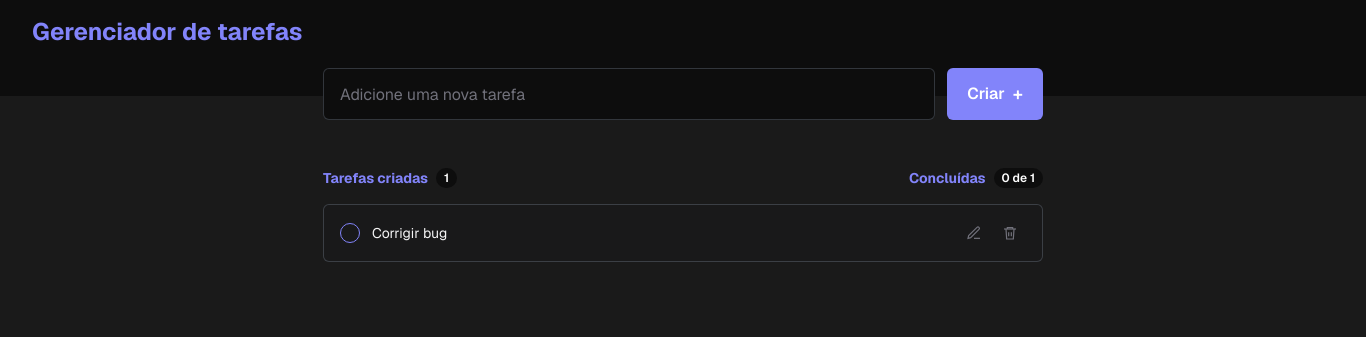
TasksHome › Não deve concluir a tarefa quando o service retornar erro
The width and height of the screenshot is (1366, 337).
Step 1. Click the button named "concluir tarefa corrigir bug" → (350, 233), box [340,223,360,243]
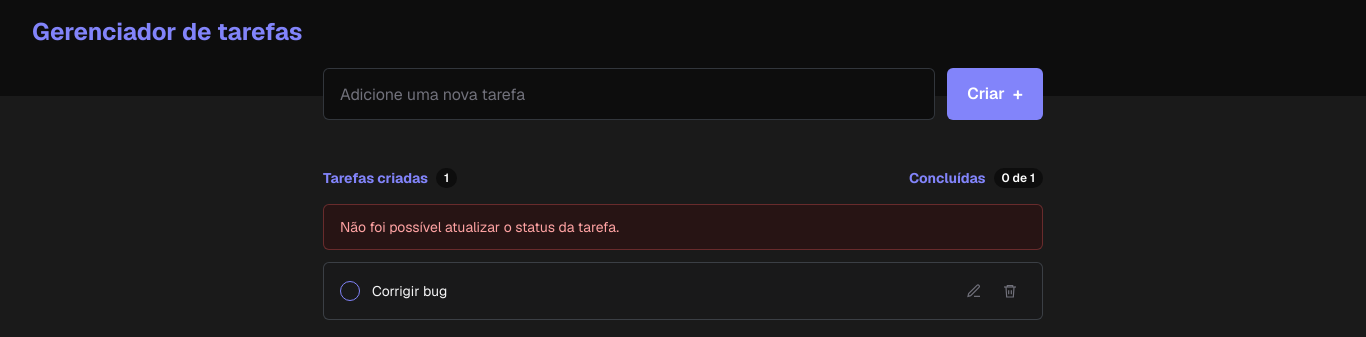
Expected: the text "0 de 1" is shown, [994,168,1043,188]
Expected: the text "Não foi possível atualizar o status da tarefa." is shown, [323,204,1043,250]
